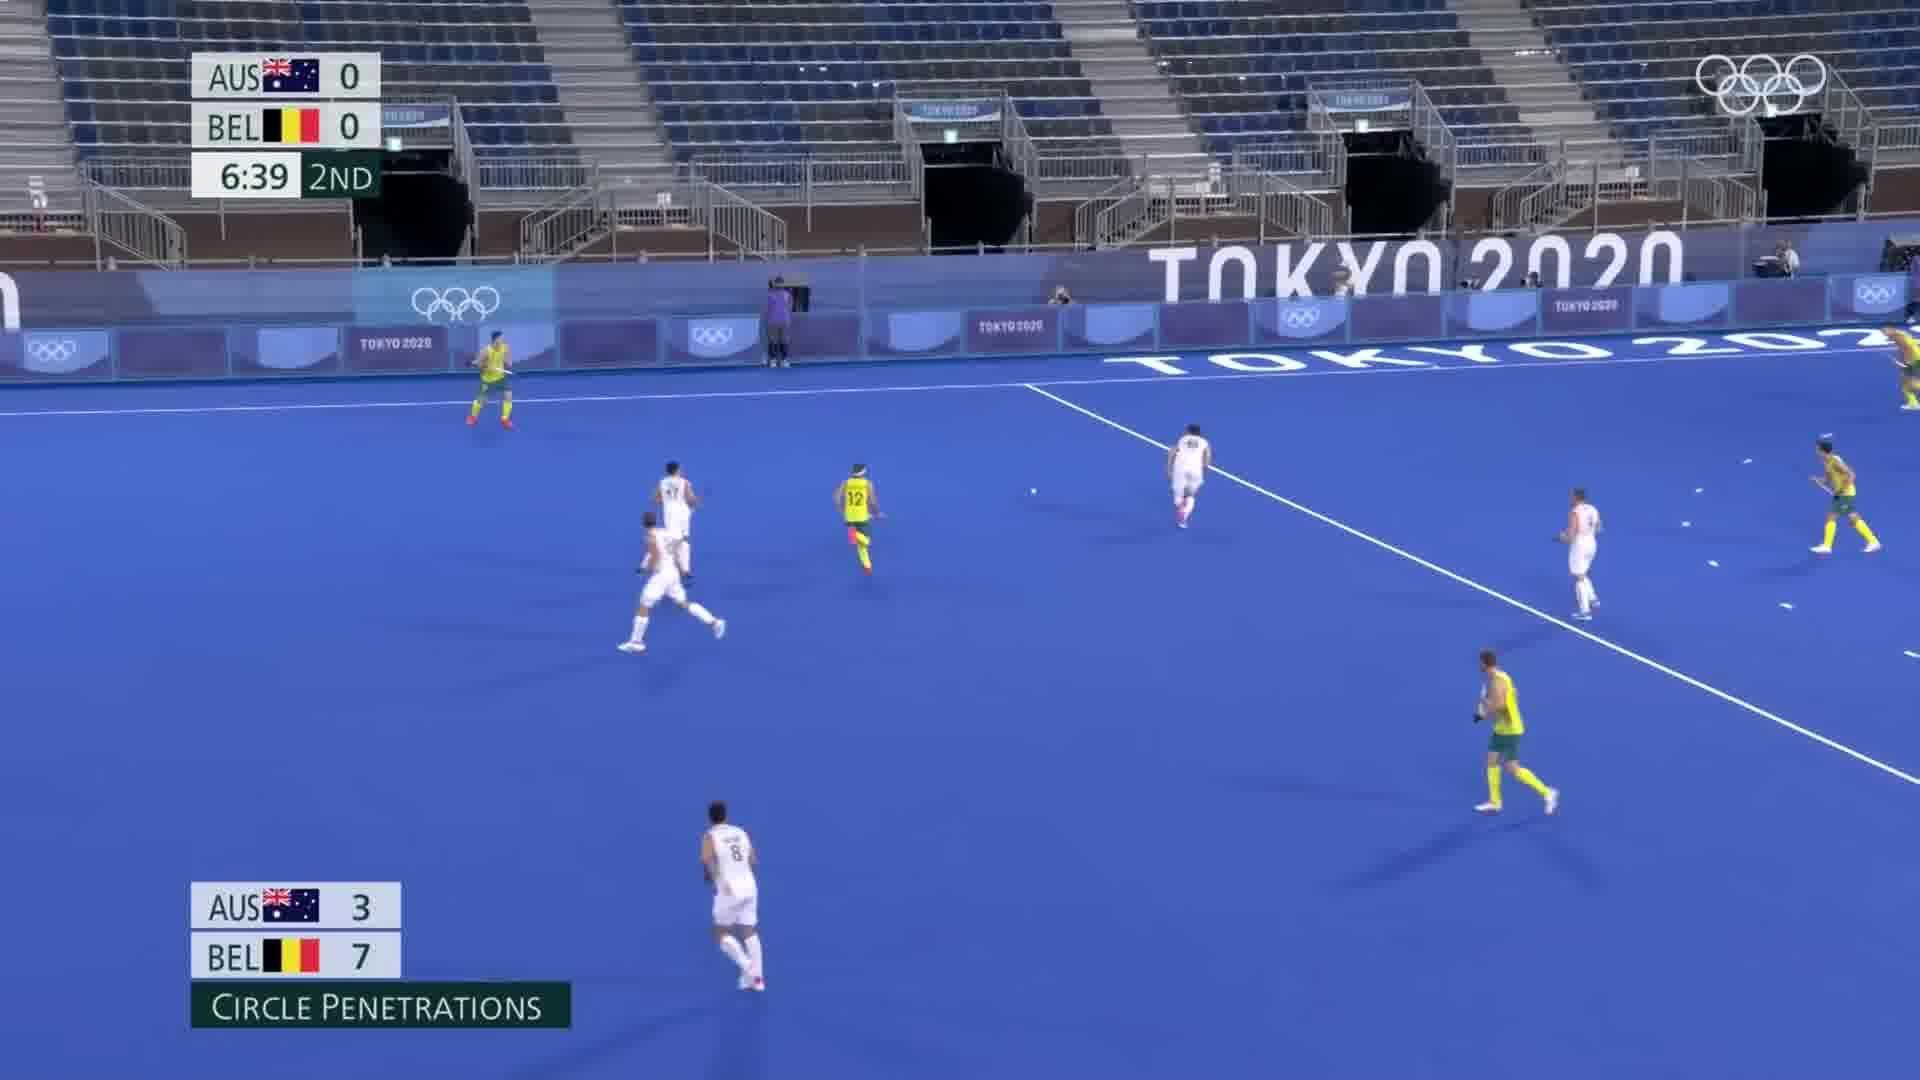ball: (1025, 483, 1044, 502)
